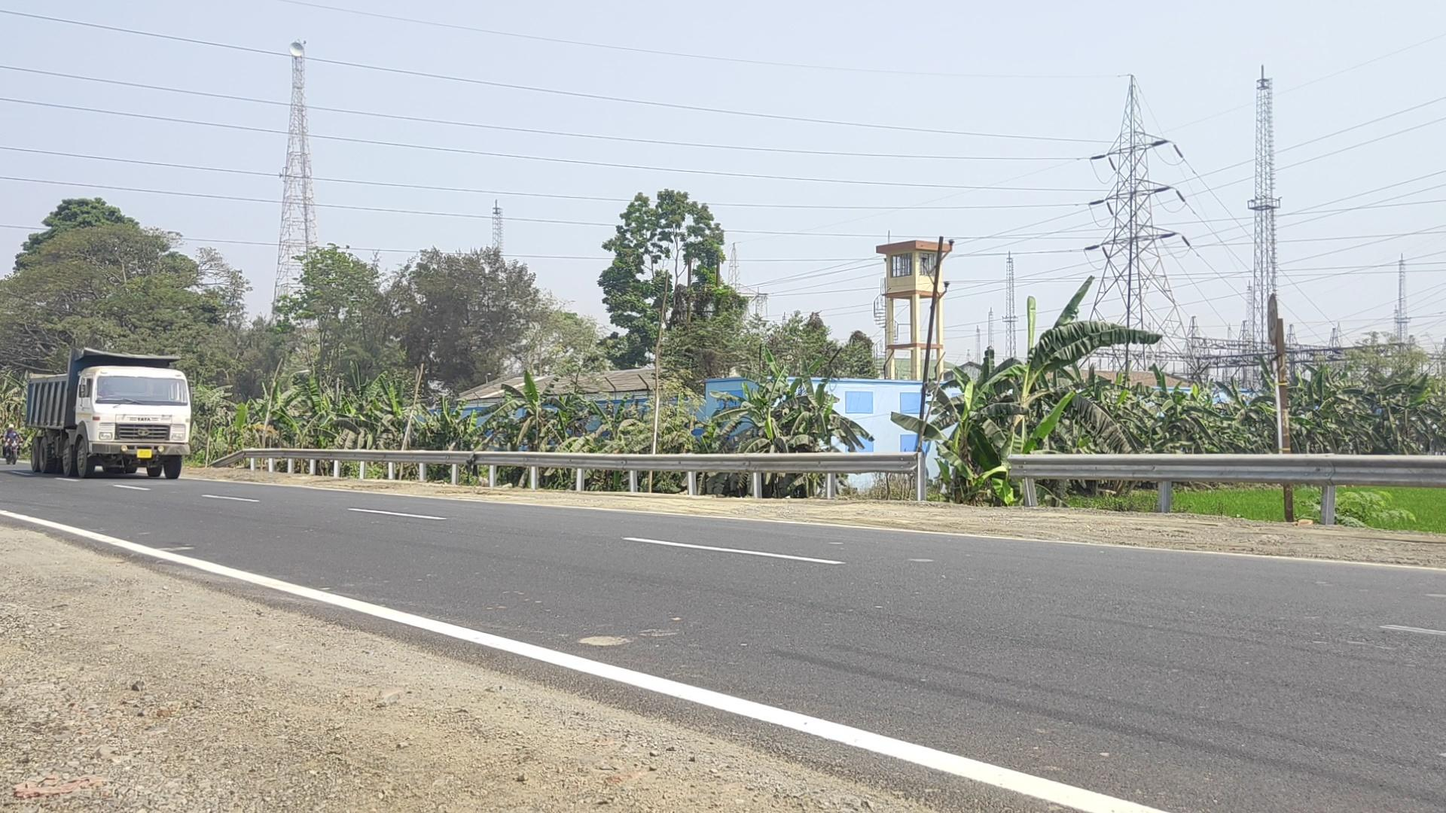bike: (2, 423, 23, 465)
truck: (25, 347, 191, 479)
